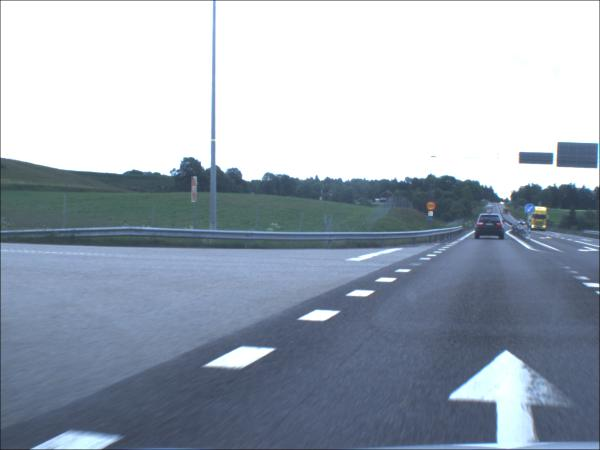100_SIGN: (426, 203, 436, 213)
PASS_RIGHT_SIDE: (525, 205, 535, 215)
PRIORITY_ROAD: (428, 212, 434, 218)
STOP: (191, 177, 198, 204)
